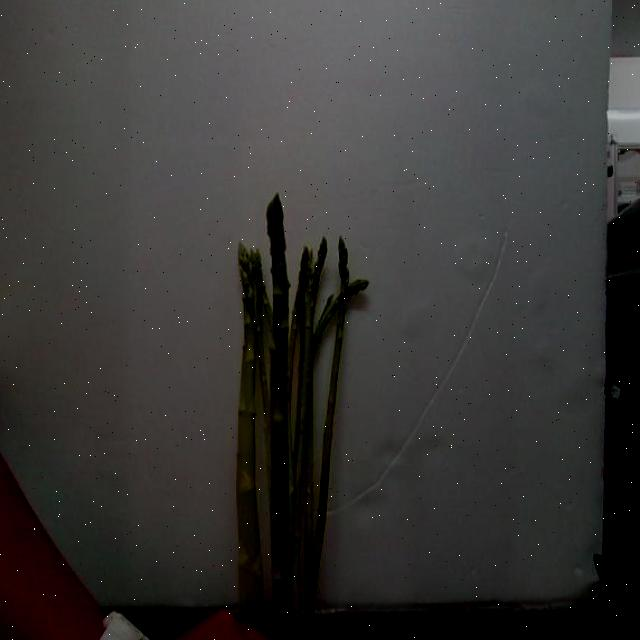aspargus: (304, 238, 350, 640), (267, 197, 296, 640)
